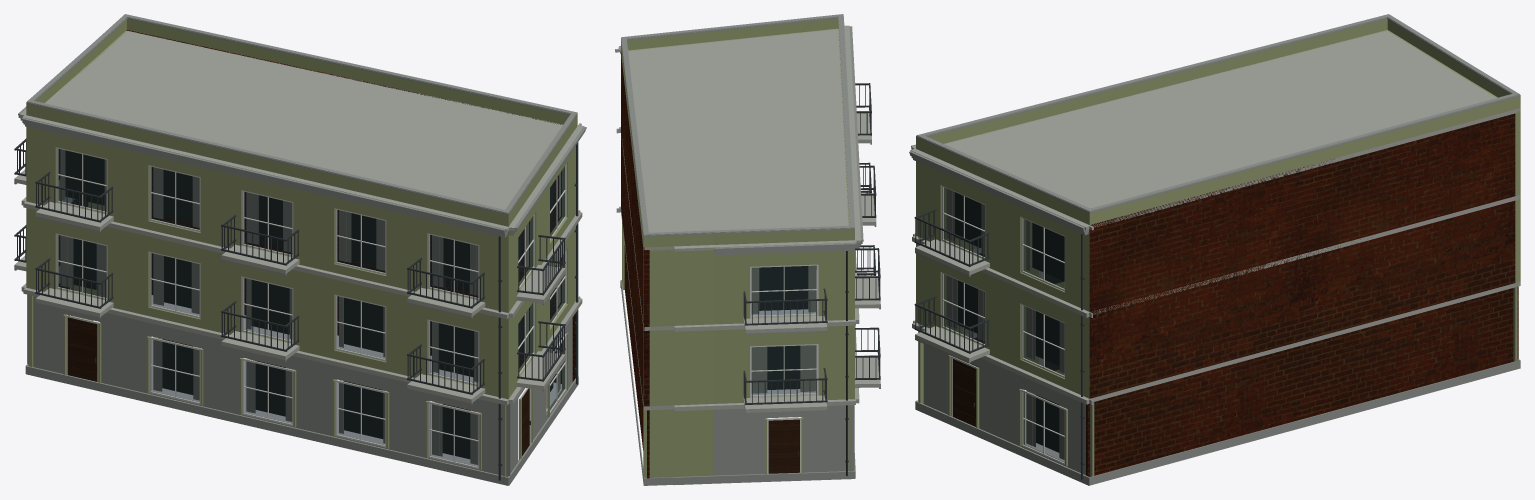
The model's file is building.glb.
3 views of the same model, side by side, from view 1: azimuth 30°, elevation 25°; view 2: azimuth 150°, elevation 25°; view 3: azimuth 270°, elevation 25° (orthographic). The views are drawn at different scales.
Parts seen in each view (by area): view 1: roof/main:0/roof_slab#0001, main:0/edge0/z0/main:0/edge0/z0/wall_1_0/core0, main:0/edge0/z0/main:0/edge0/z0/coating_0_0_0, roof/main:0/parapet#0001, main:0/edge1/z0/main:0/edge1/z0/wall_1_0/core0, roof/main:0/parapet_cap#0002, main:0/edge0/z0/plinth#0001, roof/main:0/parapet_cap#0001, main:0/edge0/z0/opening_u4.39_v0.30/glazing#0001, main:0/edge0/z0/opening_u4.39_v3.30/glazing#0001, main:0/edge0/z0/opening_u4.39_v6.30/glazing#0001, main:0/edge0/z0/opening_u11.07_v0.30/glazing#0001 (+51 smaller); view 2: roof/main:0/roof_slab#0001, main:0/edge4/z0/main:0/edge4/z0/wall_1_0, main:0/edge3/z0/main:0/edge3/z0/wall_1_0/core0, main:0/edge4/z0/main:0/edge4/z0/coating_0_0_0, roof/main:0/parapet#0001, main:0/edge3/z0/main:0/edge3/z0/wall_0_0/core0, main:0/edge2/z0/main:0/edge2/z0/wall_1_0/core0, roof/main:0/parapet_cap#0002, main:0/edge4/z0/opening_u1.25_v3.18/glazing#0001, main:0/edge4/z0/opening_u1.25_v6.18/glazing#0001, main:0/edge4/z0/opening_u1.25_v6.18/interior_backing#0001, roof/main:0/parapet_cap#0001 (+32 smaller); view 3: main:0/edge2/z0/main:0/edge2/z0/wall_1_0/core0, roof/main:0/roof_slab#0001, main:0/edge2/z0/main:0/edge2/z0/wall_0_0/core0, main:0/edge1/z0/main:0/edge1/z0/wall_1_0/core0, roof/main:0/parapet#0001, main:0/edge1/z0/main:0/edge1/z0/coating_0_0_0, roof/main:0/parapet_cap#0002, main:0/edge2/z0/plinth#0001, roof/main:0/parapet_cap#0001, main:0/edge2/z0/floor_slab#0001, main:0/edge1/z0/opening_u4.72_v0.30/glazing#0001, main:0/edge1/z0/opening_u4.72_v3.30/glazing#0001 (+21 smaller).
Part boxes in pixels (bbox=[...]): roof/main:0/roof_slab#0001: bbox=[45, 31, 562, 209]; main:0/edge0/z0/main:0/edge0/z0/wall_1_0/core0: bbox=[26, 127, 507, 397]; main:0/edge0/z0/main:0/edge0/z0/coating_0_0_0: bbox=[28, 295, 510, 476]; roof/main:0/parapet#0001: bbox=[26, 19, 577, 226]; main:0/edge1/z0/main:0/edge1/z0/wall_1_0/core0: bbox=[509, 145, 575, 398]; roof/main:0/parapet_cap#0002: bbox=[27, 14, 577, 213]; main:0/edge0/z0/plinth#0001: bbox=[26, 366, 508, 485]; roof/main:0/parapet_cap#0001: bbox=[26, 17, 577, 215]; main:0/edge0/z0/opening_u4.39_v0.30/glazing#0001: bbox=[151, 339, 199, 402]; main:0/edge0/z0/opening_u4.39_v3.30/glazing#0001: bbox=[151, 253, 199, 315]; main:0/edge0/z0/opening_u4.39_v6.30/glazing#0001: bbox=[151, 167, 199, 229]; main:0/edge0/z0/opening_u11.07_v0.30/glazing#0001: bbox=[337, 382, 385, 445]; roof/main:0/roof_slab#0001: bbox=[621, 29, 849, 250]; main:0/edge4/z0/main:0/edge4/z0/wall_1_0: bbox=[713, 249, 854, 403]; main:0/edge3/z0/main:0/edge3/z0/wall_1_0/core0: bbox=[649, 249, 713, 406]; main:0/edge4/z0/main:0/edge4/z0/coating_0_0_0: bbox=[713, 405, 854, 475]; roof/main:0/parapet#0001: bbox=[621, 18, 854, 247]; main:0/edge3/z0/main:0/edge3/z0/wall_0_0/core0: bbox=[643, 409, 713, 477]; main:0/edge2/z0/main:0/edge2/z0/wall_1_0/core0: bbox=[621, 51, 643, 401]; roof/main:0/parapet_cap#0002: bbox=[621, 14, 854, 235]; main:0/edge4/z0/opening_u1.25_v3.18/glazing#0001: bbox=[751, 345, 816, 395]; main:0/edge4/z0/opening_u1.25_v6.18/glazing#0001: bbox=[751, 265, 816, 315]; main:0/edge4/z0/opening_u1.25_v6.18/interior_backing#0001: bbox=[759, 266, 807, 310]; roof/main:0/parapet_cap#0001: bbox=[621, 14, 854, 236]; main:0/edge2/z0/main:0/edge2/z0/wall_1_0/core0: bbox=[1089, 113, 1515, 398]; roof/main:0/roof_slab#0001: bbox=[944, 30, 1519, 227]; main:0/edge2/z0/main:0/edge2/z0/wall_0_0/core0: bbox=[1086, 286, 1518, 476]; main:0/edge1/z0/main:0/edge1/z0/wall_1_0/core0: bbox=[919, 163, 1089, 398]; roof/main:0/parapet#0001: bbox=[916, 19, 1520, 224]; main:0/edge1/z0/main:0/edge1/z0/coating_0_0_0: bbox=[923, 344, 1092, 476]; roof/main:0/parapet_cap#0002: bbox=[916, 14, 1519, 211]; main:0/edge2/z0/plinth#0001: bbox=[1090, 360, 1520, 485]; roof/main:0/parapet_cap#0001: bbox=[916, 17, 1520, 213]; main:0/edge2/z0/floor_slab#0001: bbox=[1089, 281, 1520, 404]; main:0/edge1/z0/opening_u4.72_v0.30/glazing#0001: bbox=[1023, 392, 1064, 462]; main:0/edge1/z0/opening_u4.72_v3.30/glazing#0001: bbox=[1023, 306, 1064, 375].
Bounding box in the file's own units: 15.2 × 9.47 × 19.15.
10 materials, 2 textured.
